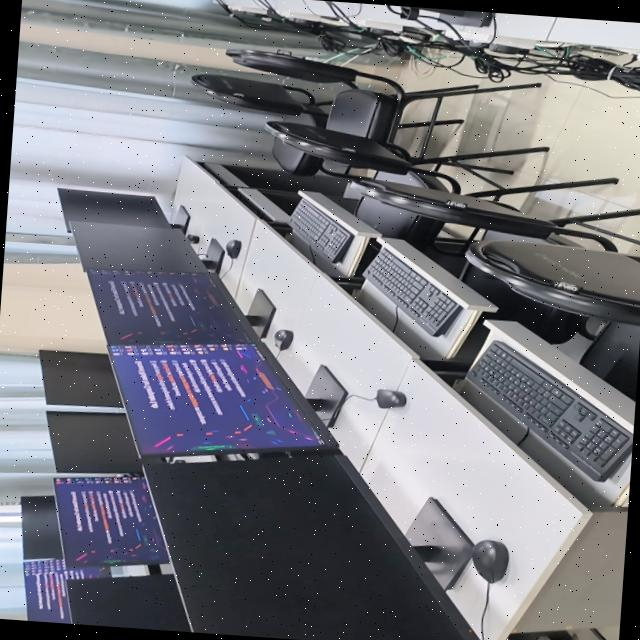Ac: (53, 473, 168, 566), (45, 410, 164, 472), (67, 573, 191, 632), (23, 558, 109, 623), (21, 494, 62, 558)
Chair: (227, 49, 540, 156), (266, 119, 618, 210), (468, 239, 640, 400), (349, 178, 640, 251), (192, 72, 330, 126), (517, 627, 609, 640)
Keyboard: (466, 340, 633, 480), (363, 247, 462, 334), (291, 197, 353, 262)
Monitor: (144, 452, 480, 640), (108, 339, 347, 456), (87, 267, 274, 344), (73, 220, 222, 271), (58, 187, 189, 232), (38, 349, 121, 405), (404, 5, 492, 25)
Mouse: (471, 539, 508, 582), (373, 388, 405, 407), (274, 328, 293, 349), (225, 238, 240, 257), (186, 233, 198, 242)
